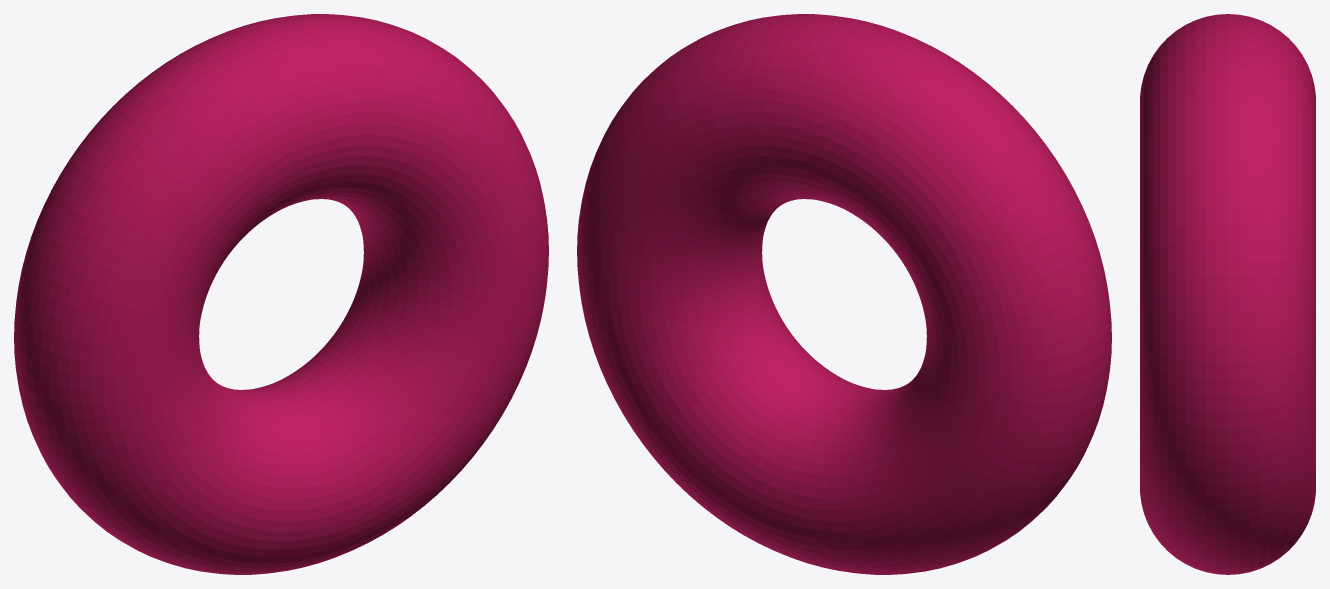
3 renders of one model, left to right at view 1: azimuth 30°, elevation 25°; view 2: azimuth 150°, elevation 25°; view 3: azimuth 270°, elevation 25°, orthographic. The views are drawn at different scales.
Visible parts, largest first — view 1: world; view 2: world; view 3: world.
Part boxes in pixels (bbox=[...]): world: bbox=[14, 14, 548, 574]; world: bbox=[577, 14, 1111, 574]; world: bbox=[1140, 14, 1315, 574].
Size of the model in its own units: 23.33 by 23.33 by 7.32.
